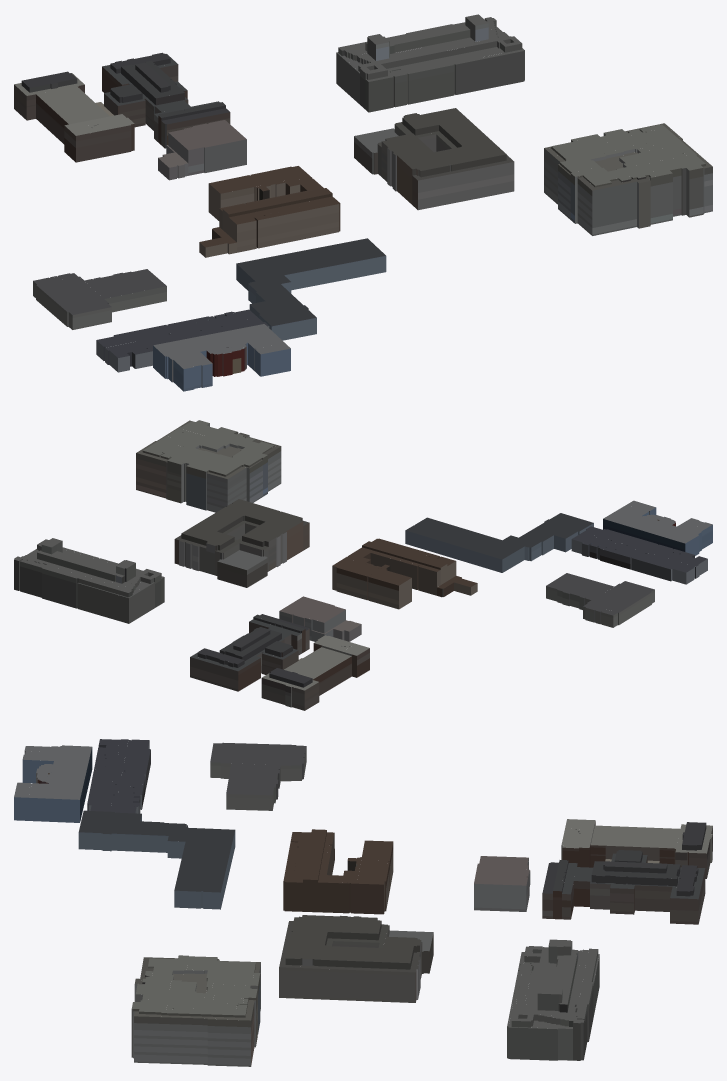
Rendered from t_-4_-1.far.glb.
The picture shows the model from 3 angles, top to bottom: view 1: azimuth 30°, elevation 25°; view 2: azimuth 150°, elevation 25°; view 3: azimuth 270°, elevation 25°; orthographic projection. The views are drawn at different scales.
Parts seen in each view (by area): view 1: opaque; view 2: opaque; view 3: opaque.
Boxes of the visible parts, x1,y1,x2,y2 form: opaque: (14, 14, 712, 391); opaque: (14, 420, 712, 710); opaque: (14, 739, 712, 1066).
Size of the model in its own units: 245 by 19.93 by 232.
Materials: 1 (1 with a texture image).
